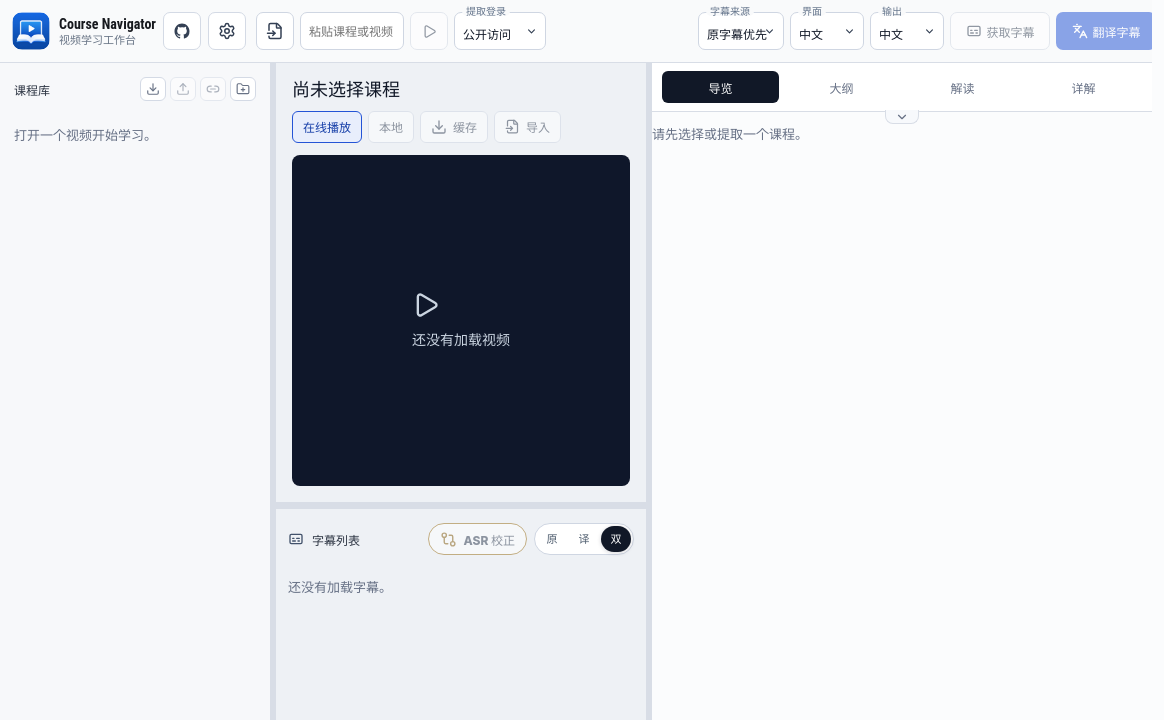
Test case: App language defaults › does not steal course selection while a study job refreshes in the background
Click the button named "展开学习地图设置".
click(902, 117)  # box [885,110,919,124]
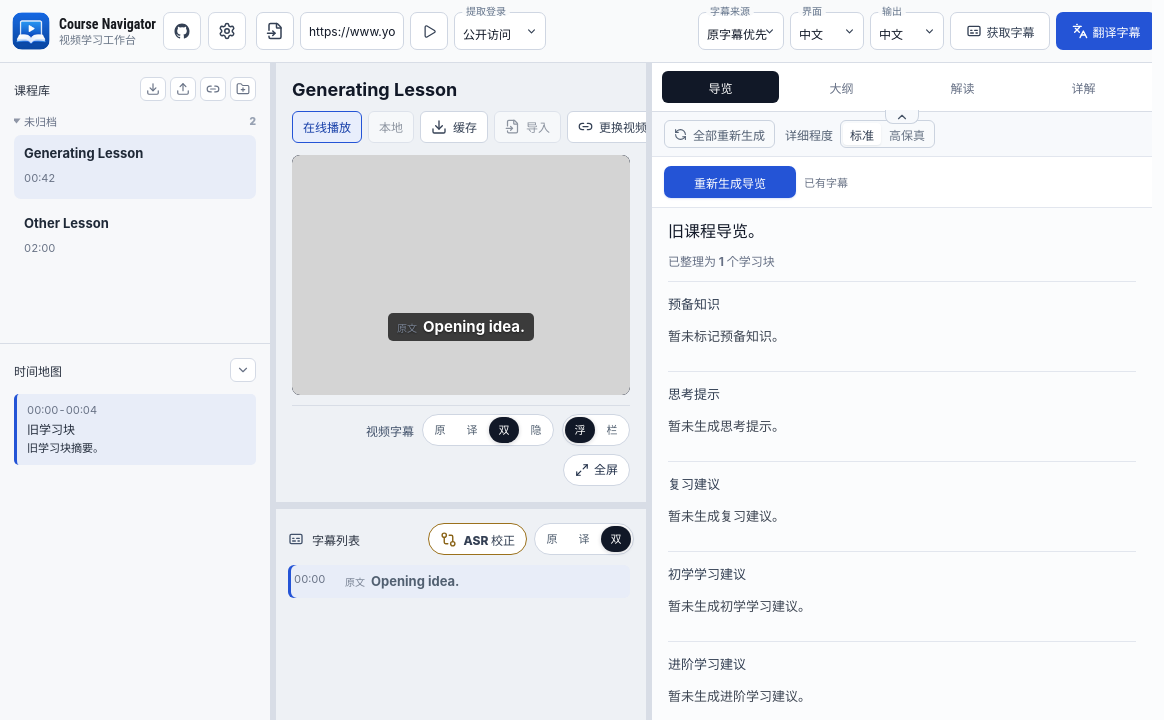
Click the button "全部重新生成".
click(720, 134)  # box [664,120,775,148]
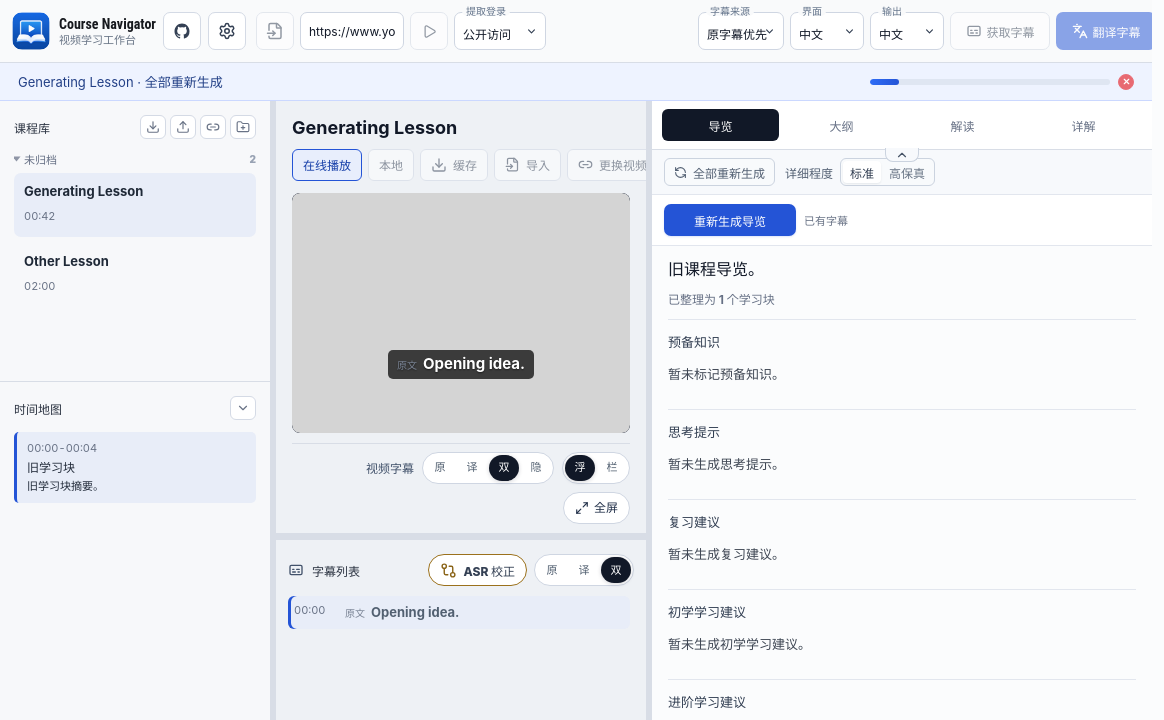
Click the button "Other Lesson 02:00".
click(135, 275)  # box [14,243,256,307]
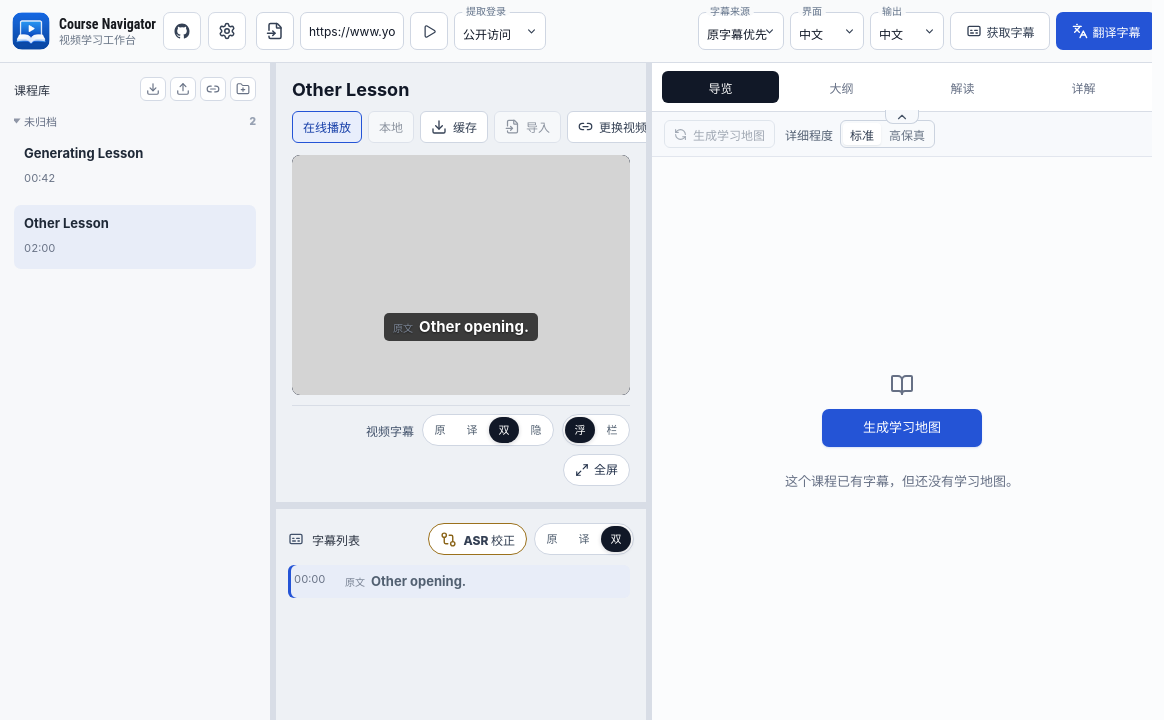
Check: the heading "Other Lesson" is shown, box [292,79,409,100]
